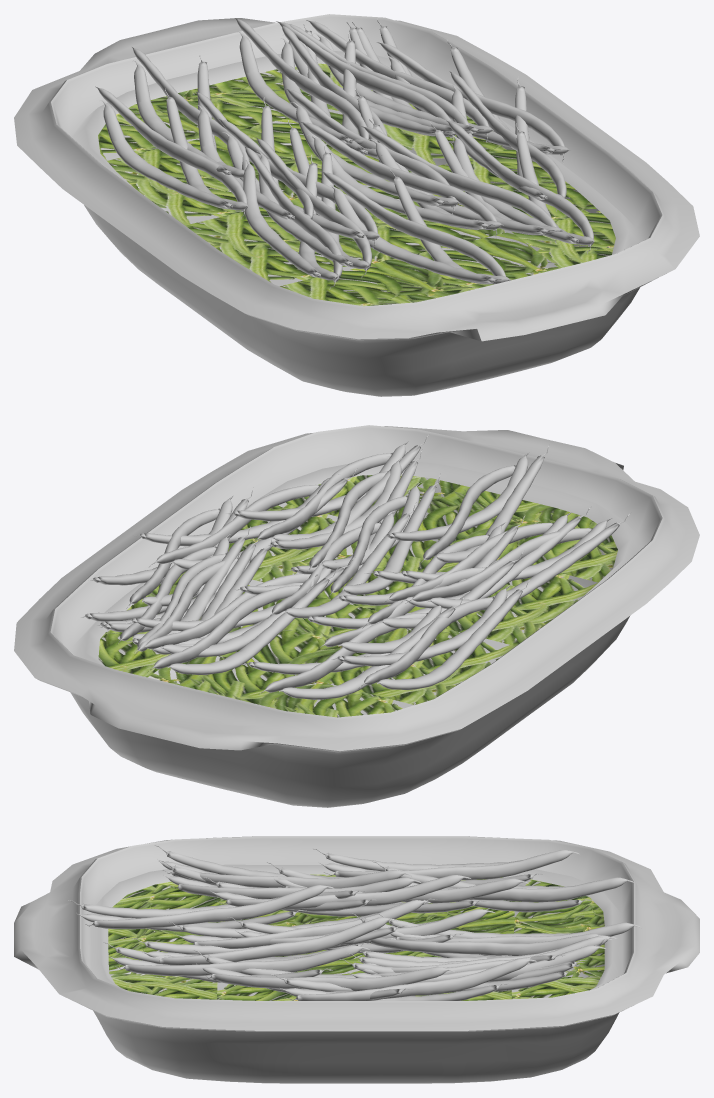
The model's file is fagiolini.fbx.
3 renders of one model, top to bottom at view 1: azimuth 30°, elevation 25°; view 2: azimuth 150°, elevation 25°; view 3: azimuth 270°, elevation 25°, orthographic. The views are drawn at different scales.
Parts seen in each view (by area): view 1: piatti_remesh_1, fagiolini_1; view 2: piatti_remesh_1, fagiolini_1; view 3: piatti_remesh_1, fagiolini_1.
Boxes of the visible parts, x1,y1,x2,y2 form: piatti_remesh_1: (14, 14, 699, 396); fagiolini_1: (95, 18, 594, 289); piatti_remesh_1: (14, 425, 699, 807); fagiolini_1: (81, 435, 630, 699); piatti_remesh_1: (14, 836, 699, 1083); fagiolini_1: (68, 845, 641, 1000).
Bounding box in the file's own units: 26.93 × 7.75 × 40.09.
